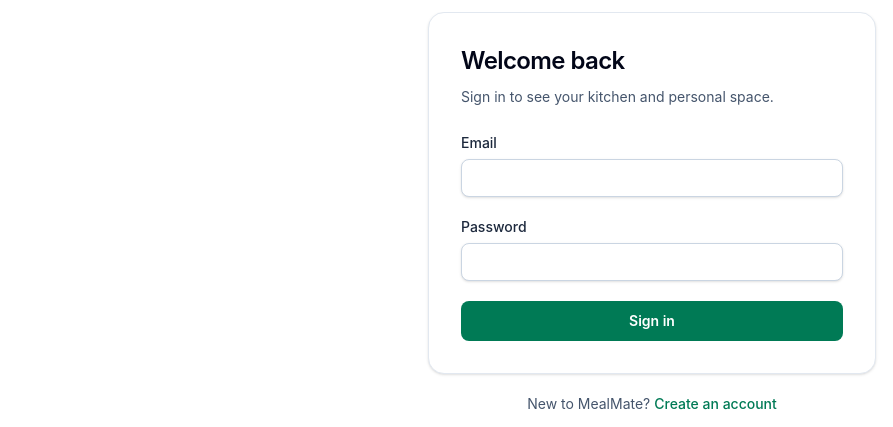
Test case: LoginPage › signs in and redirects to the dashboard
This screenshot has width=893, height=427.
Type "alice@example.com" into the field labelled "Email" at x=652, y=178, box [461,159,843,197]
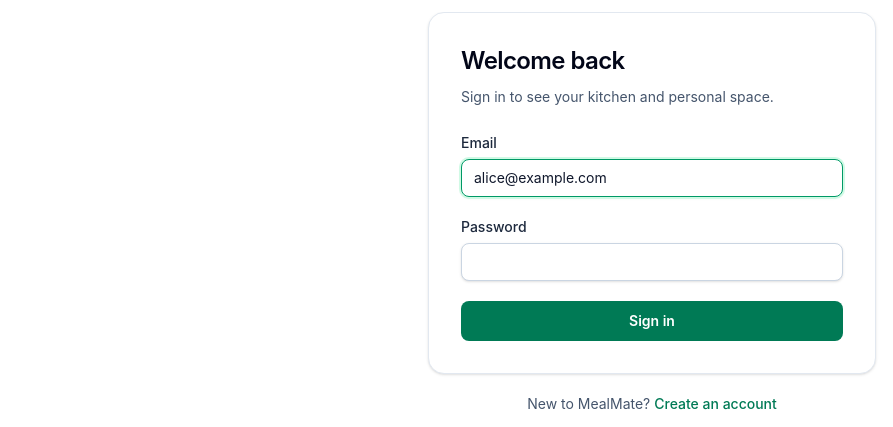
Type "supersecret" into the password field labelled "Password" at x=652, y=262, box [461,243,843,281]
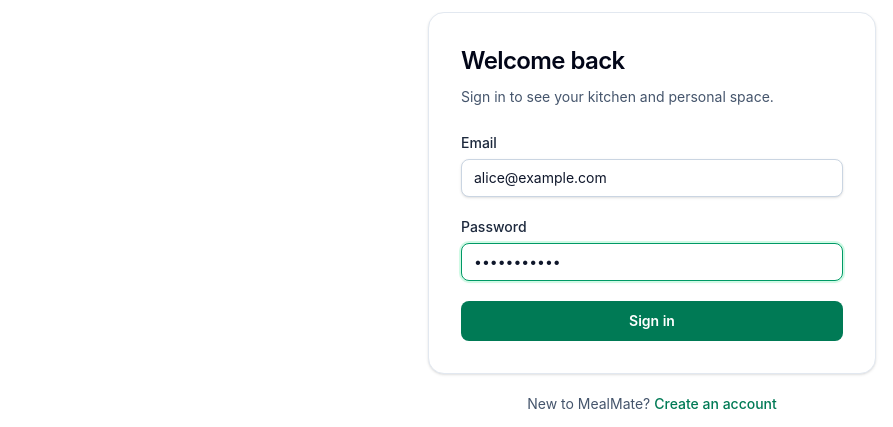
Click the button "Sign in" at x=652, y=321, box [461,301,843,341]
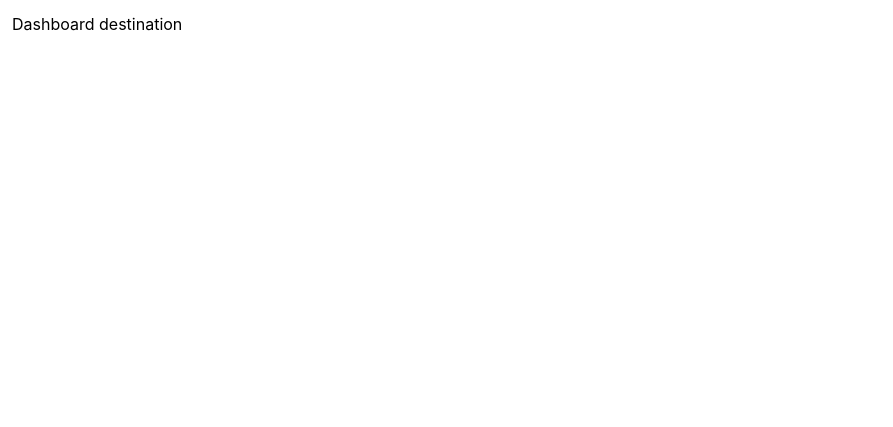
Result: the text "Dashboard destination" is shown at [12,14,182,34]
